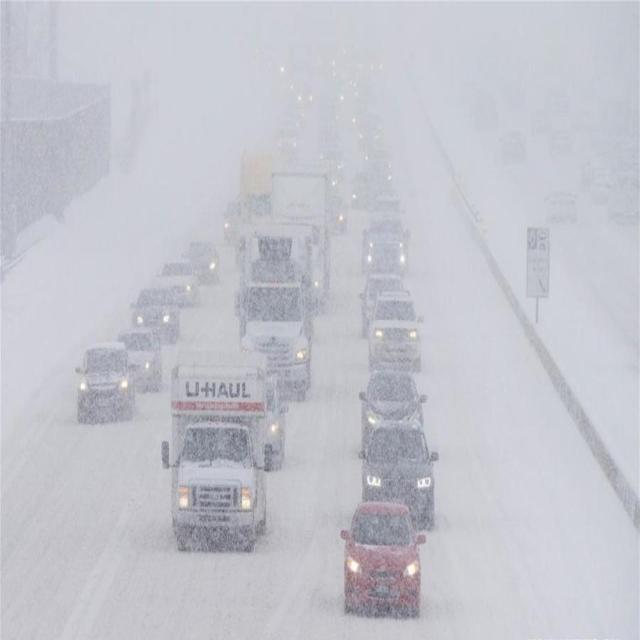bus: (164, 353, 264, 551), (236, 238, 310, 396), (278, 178, 326, 304), (240, 146, 280, 252)
car: (341, 499, 423, 619), (361, 411, 436, 536), (76, 341, 134, 425), (356, 372, 430, 434), (367, 296, 425, 364), (119, 326, 160, 390), (358, 272, 402, 328), (131, 290, 179, 341), (362, 222, 410, 269), (159, 260, 199, 304), (181, 237, 219, 281), (543, 185, 577, 223), (498, 130, 529, 165), (348, 174, 381, 204), (374, 192, 408, 220), (222, 199, 240, 247), (327, 195, 347, 236), (274, 122, 300, 153), (546, 123, 572, 154), (318, 150, 344, 180), (363, 141, 391, 167), (358, 119, 381, 148), (294, 84, 316, 110)
